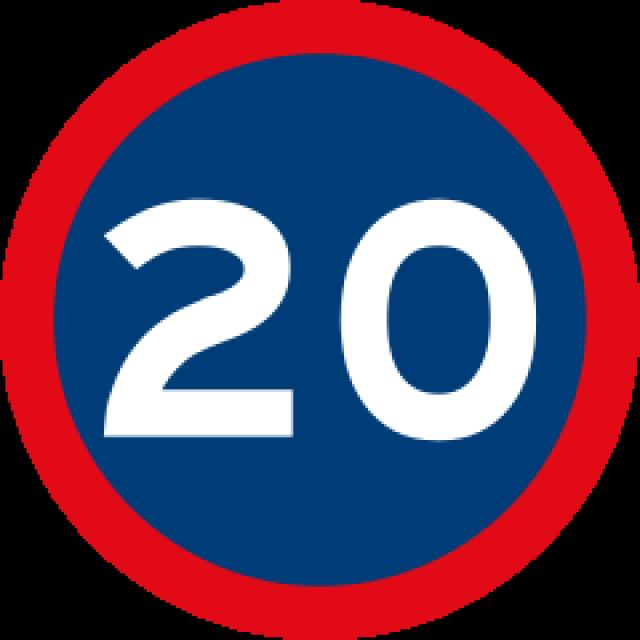Speed Limit -20-: (100, 192, 542, 445)
